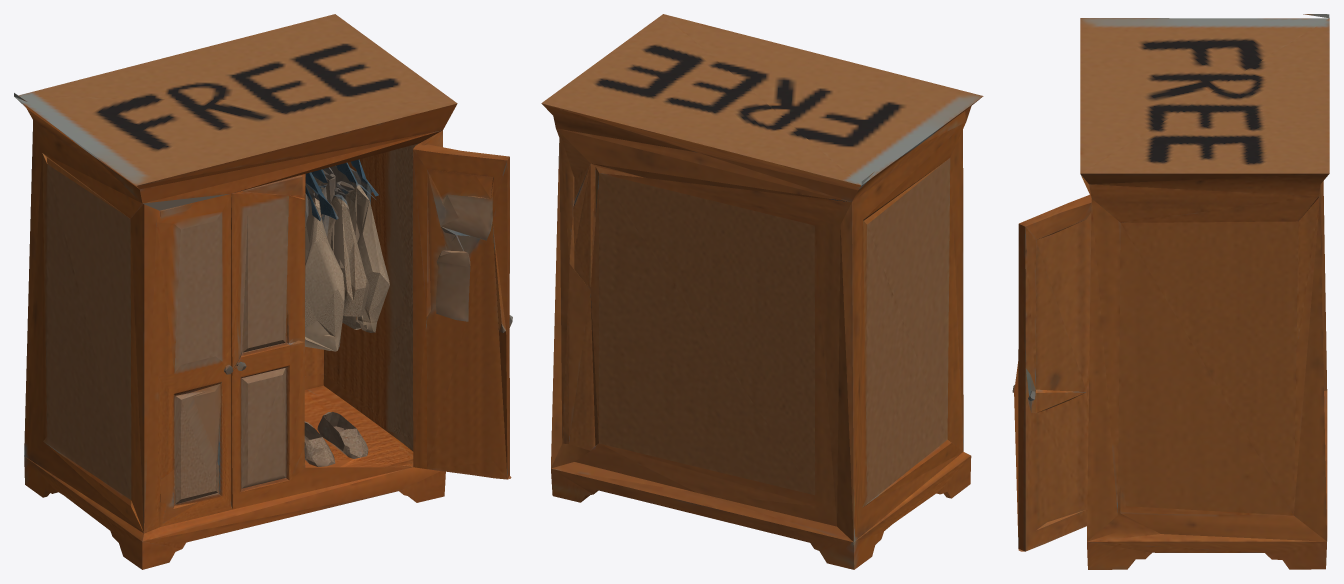
The picture shows the model from 3 angles, left to right: view 1: azimuth 30°, elevation 25°; view 2: azimuth 150°, elevation 25°; view 3: azimuth 270°, elevation 25°; orthographic projection. The views are drawn at different scales.
Size of the model in its own units: 1.78 by 1.9 by 1.36.
1 material, 1 textured.
